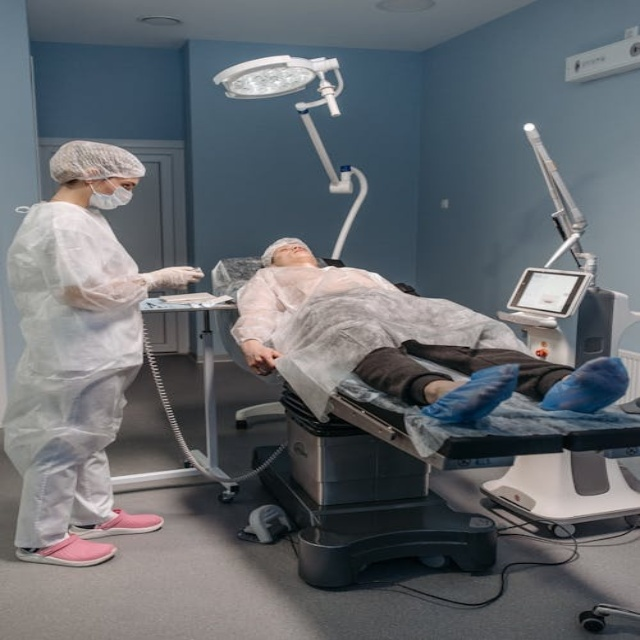Guantes: (136, 266, 203, 291)
Mascara: (86, 177, 134, 210)
Sin_gafas: (275, 245, 307, 256), (118, 181, 136, 190)
Sin_guantes: (241, 343, 281, 374)
